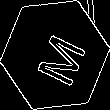M_NW: (25, 24, 85, 86)
